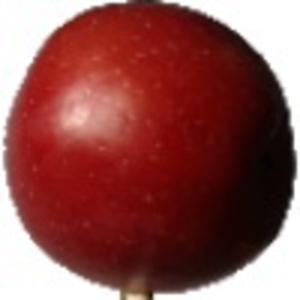maçã braeburn: (4, 1, 297, 294)
